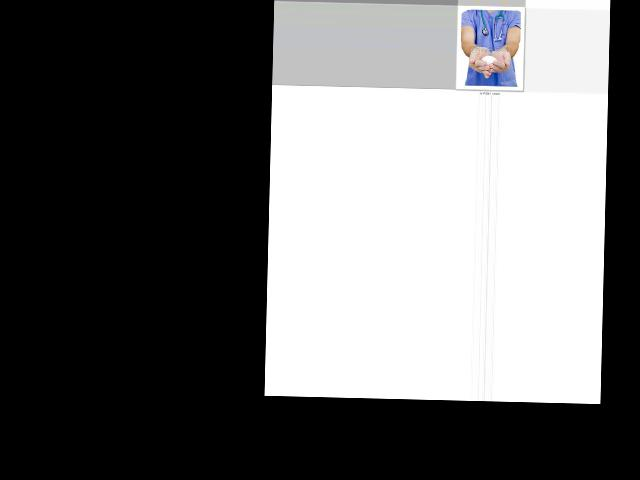egg: (481, 55, 497, 66)
